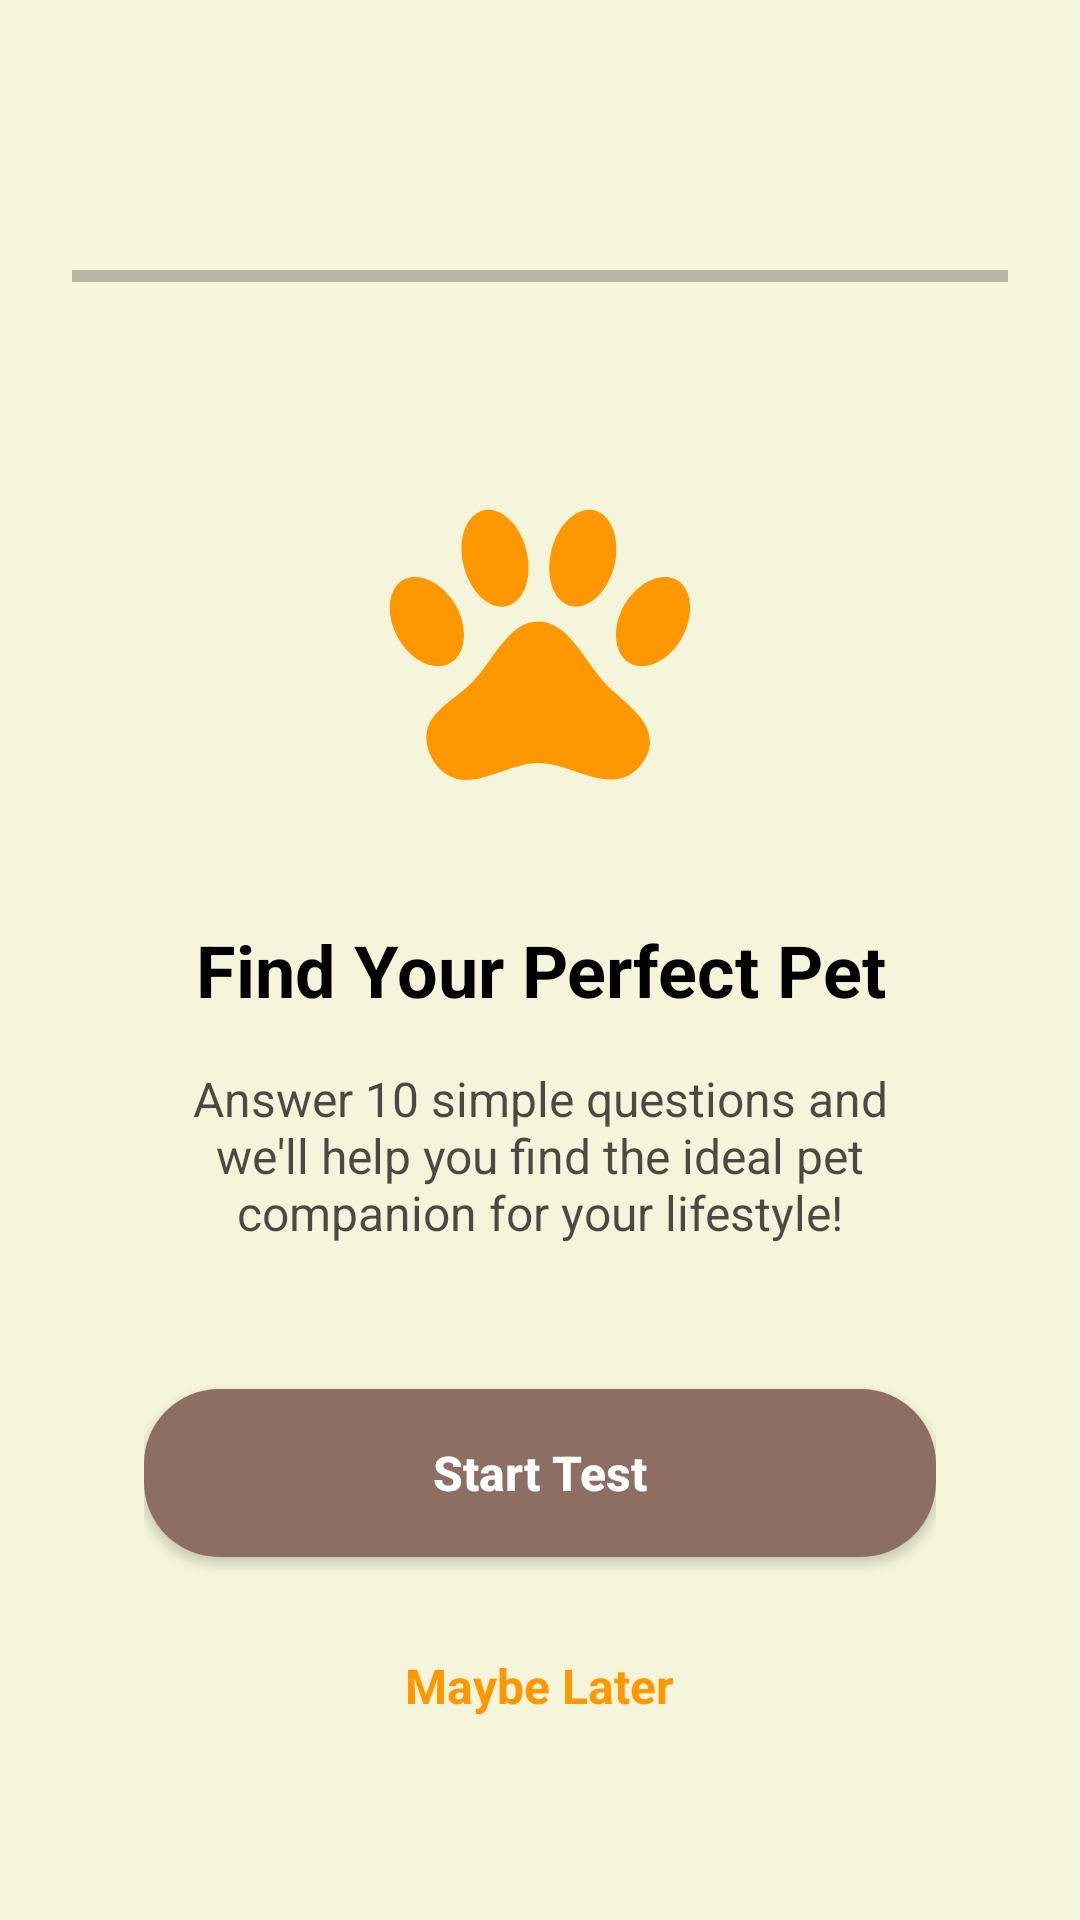

Locate icon controls on the screen. Image size 1080 x 1920, boxes as (x1, y1, x2, y2).
paw: (389, 509, 690, 780)
